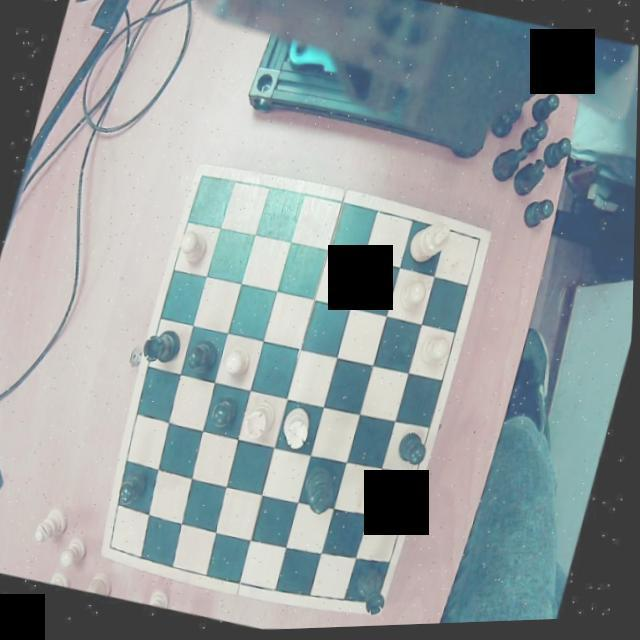chess-table-corners: (192, 166, 220, 196), (369, 587, 392, 619), (466, 228, 492, 256), (105, 536, 128, 564)
